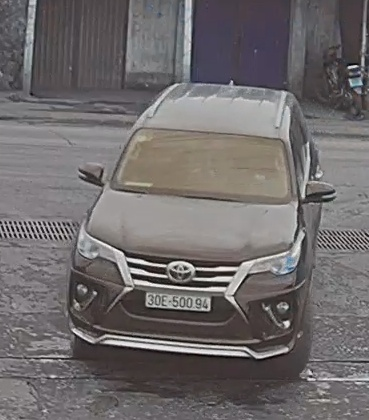vehicle plate: (139, 287, 216, 310)
